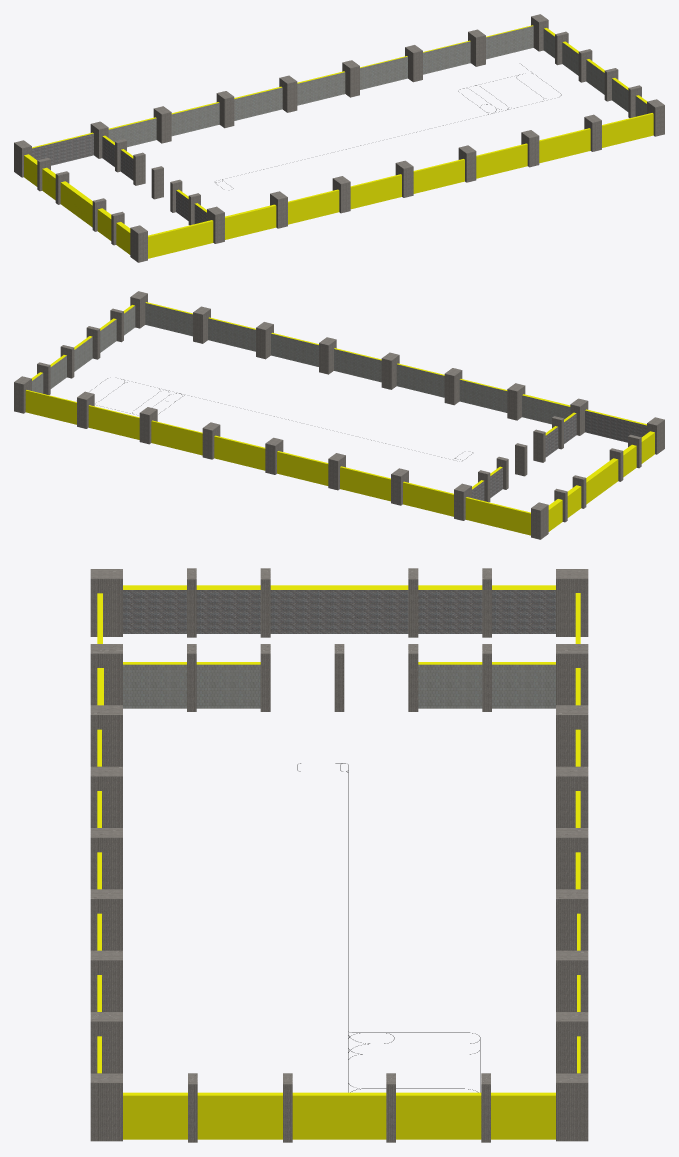
Rendered from DSA-Halle.dae.
The picture shows the model from 3 angles, top to bottom: view 1: azimuth 30°, elevation 25°; view 2: azimuth 150°, elevation 25°; view 3: azimuth 270°, elevation 25°; orthographic projection. The views are drawn at different scales.
Parts seen in each view (by area): view 1: SketchUp (×42); view 2: SketchUp (×42); view 3: SketchUp (×32).
Part boxes in pixels (box(x1,y1,x2,y2)): SketchUp (×42): box(14, 14, 664, 262); SketchUp (×42): box(14, 291, 664, 539); SketchUp (×32): box(90, 569, 588, 1141).
Bounding box in the file's own units: 2980 × 1214 × 157.
Materials: 7 (4 with a texture image).
